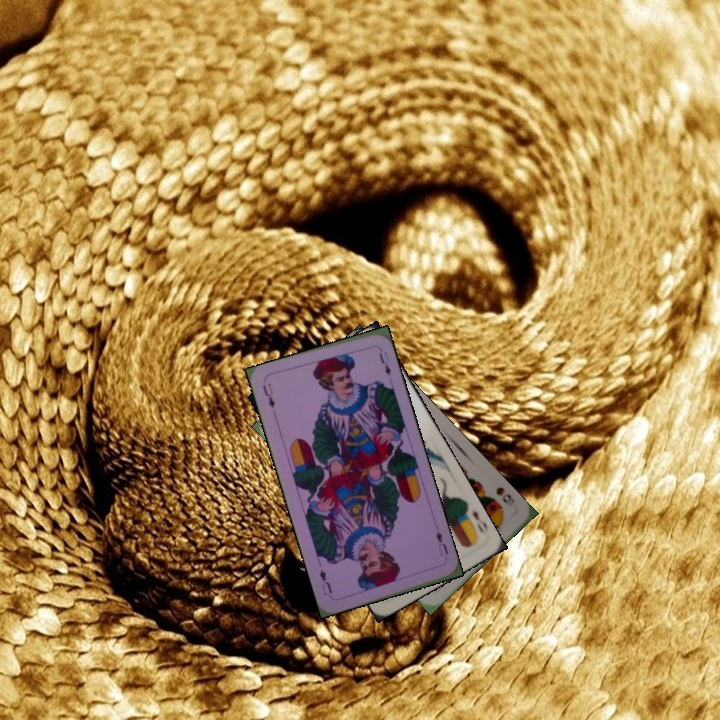EO: (460, 504, 489, 535)
EU: (432, 527, 451, 559), (259, 379, 278, 411)
S8: (492, 483, 514, 505)
